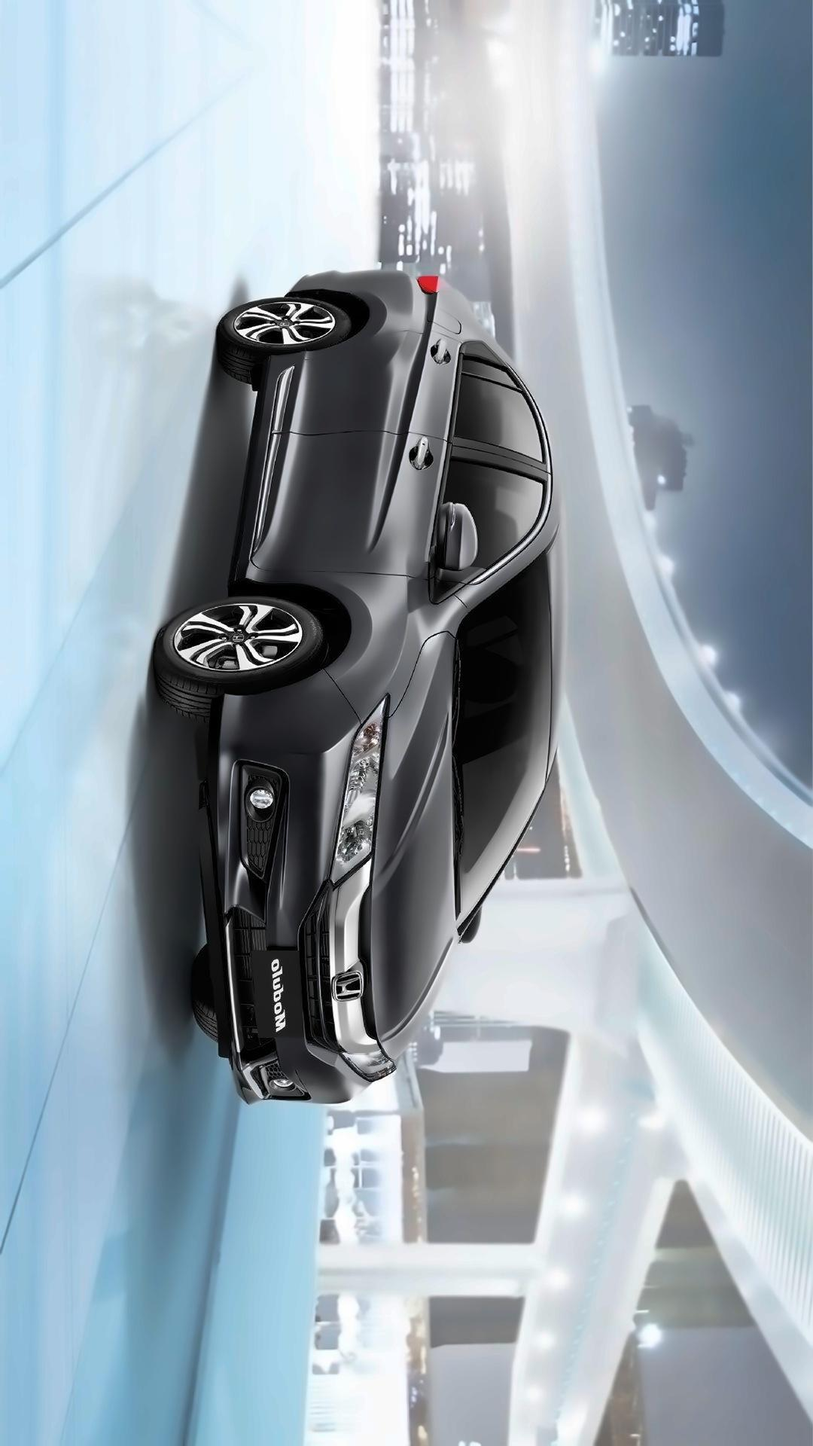Car hood: (358, 624, 465, 1049)
Driver-s door - -F-R-: (246, 431, 559, 573)
Fender - -F-R-: (234, 571, 474, 729)
Fender - -R-R-: (270, 281, 478, 353)
Front bumper: (191, 673, 356, 1116)
Headlight - -L-: (330, 1036, 400, 1090)
Headlight - -R-: (327, 686, 395, 890)
Passenger-s door - -R-R-: (265, 327, 560, 429)
Rear bumper: (268, 258, 372, 303)
Rear light - -R-: (404, 264, 445, 298)
Side bumper - -R-: (220, 348, 304, 604)
Side mirror - -L-: (455, 899, 493, 950)
Side mirror - -R-: (422, 492, 488, 578)
